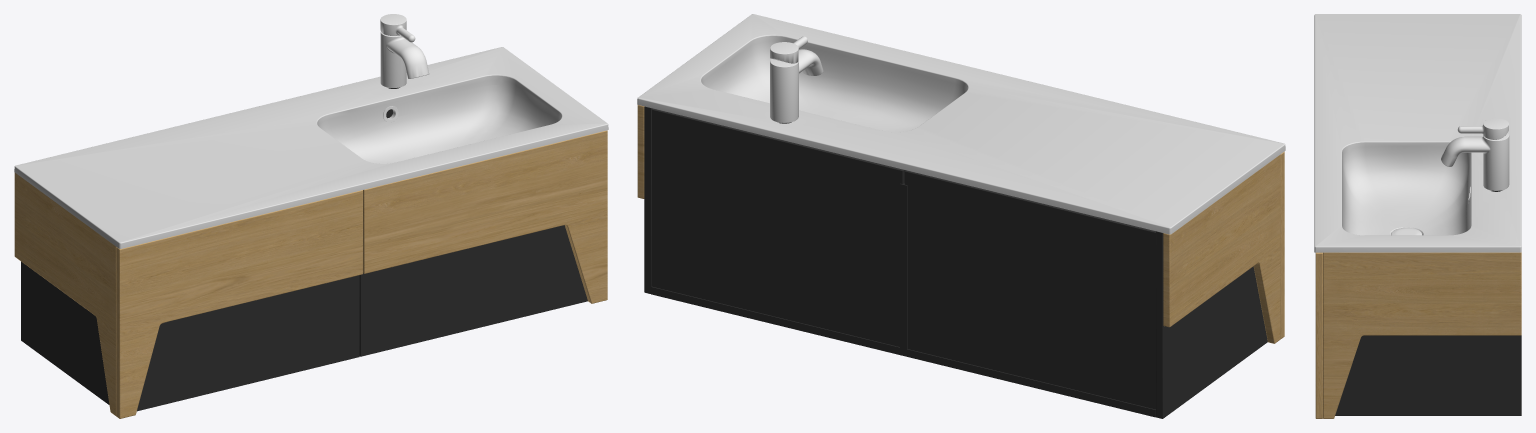
The model's file is BARY1.glb.
3 renders of one model, left to right at view 1: azimuth 30°, elevation 25°; view 2: azimuth 150°, elevation 25°; view 3: azimuth 270°, elevation 25°, orthographic. The views are drawn at different scales.
Parts seen in each view (by area): view 1: Solid1; view 2: Solid1; view 3: Solid1.
Part boxes in pixels (x1=…): Solid1: x1=14, y1=14, x2=608, y2=418; Solid1: x1=637, y1=14, x2=1285, y2=418; Solid1: x1=1314, y1=14, x2=1521, y2=418.
Bounding box in the file's own units: 1.2 × 0.569 × 0.4507.
Materials: 5 (1 with a texture image).
